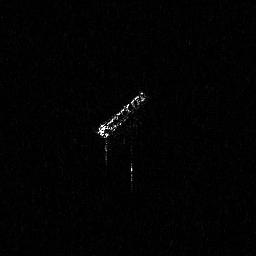ship: (96, 87, 148, 190)
